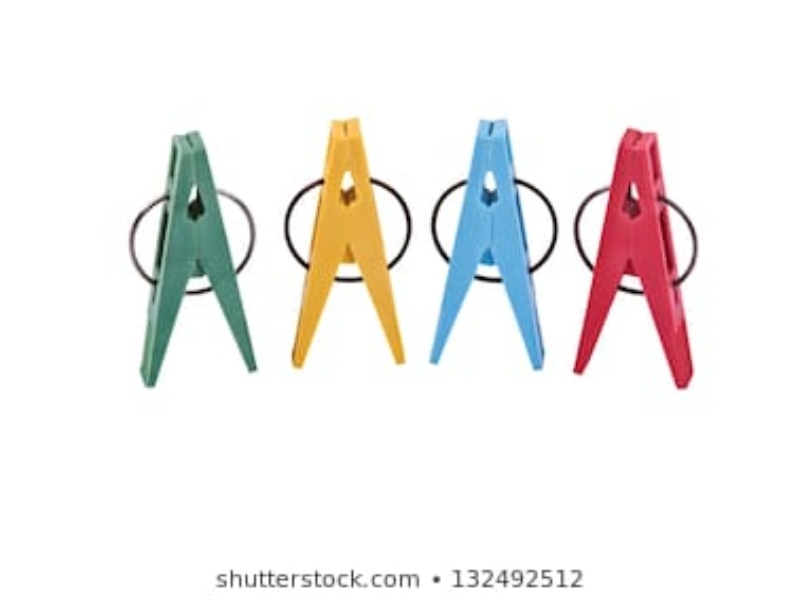plastic-peg: (571, 126, 702, 388), (131, 130, 257, 386), (427, 117, 553, 373), (287, 115, 413, 371)
